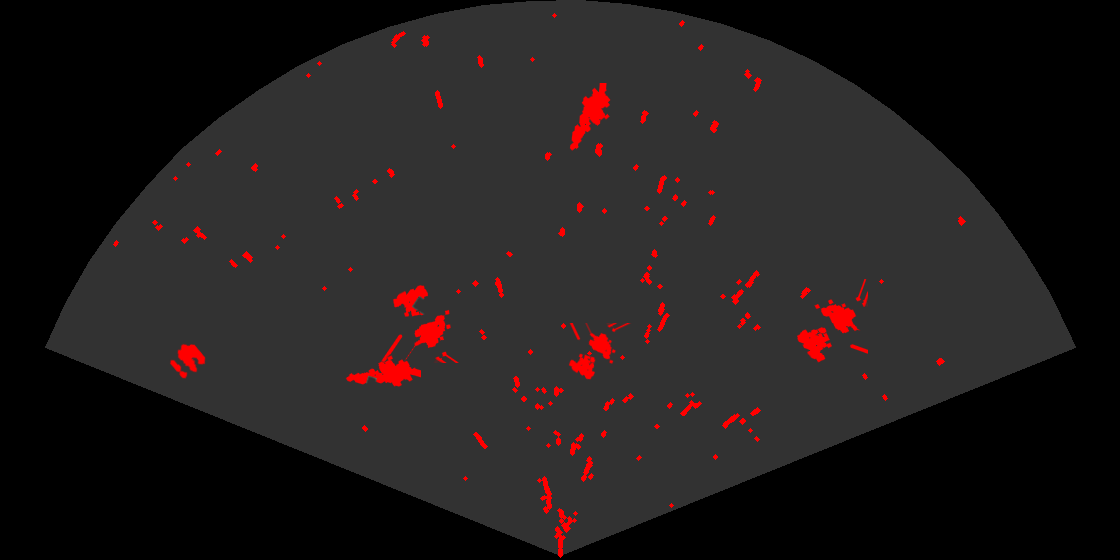ball: (168, 342, 207, 380)
cage: (379, 283, 460, 363), (796, 279, 868, 364), (567, 323, 632, 381)
frogman: (568, 83, 612, 152), (344, 354, 421, 388)
